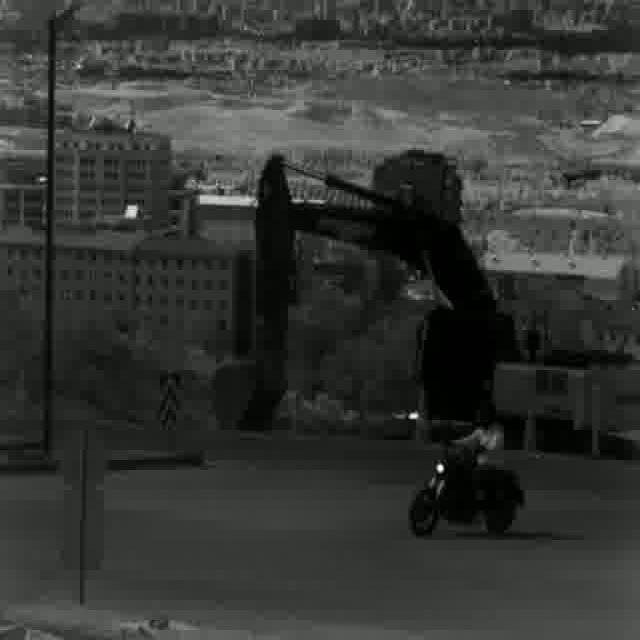Motorcycle: (410, 400, 520, 536)
